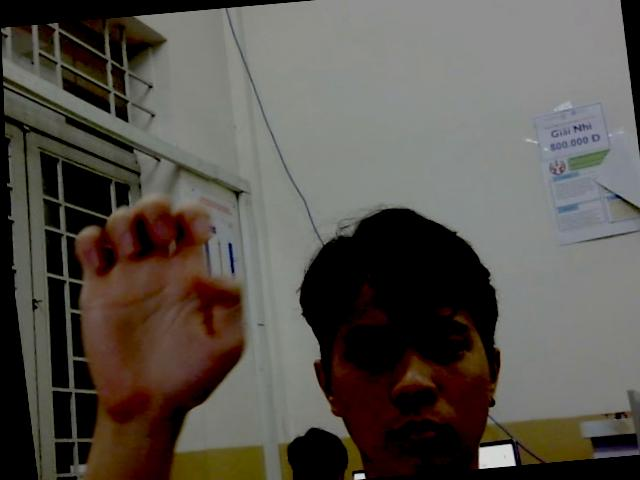E: (60, 185, 254, 416)
